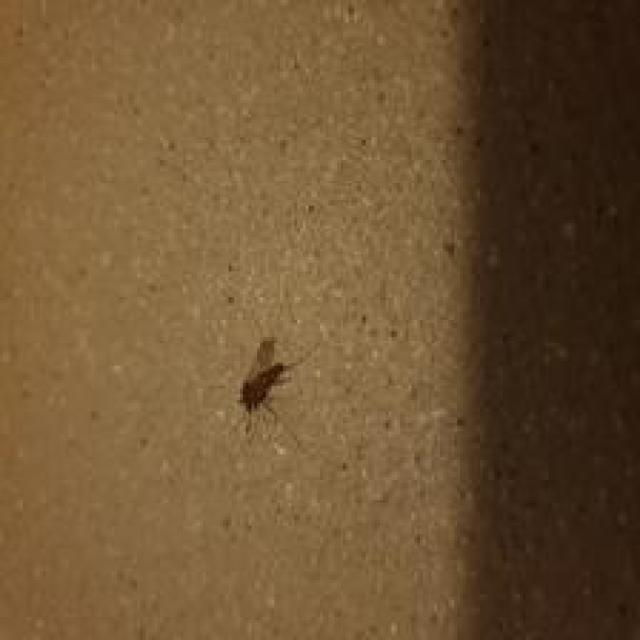Culex: (233, 334, 304, 440)
